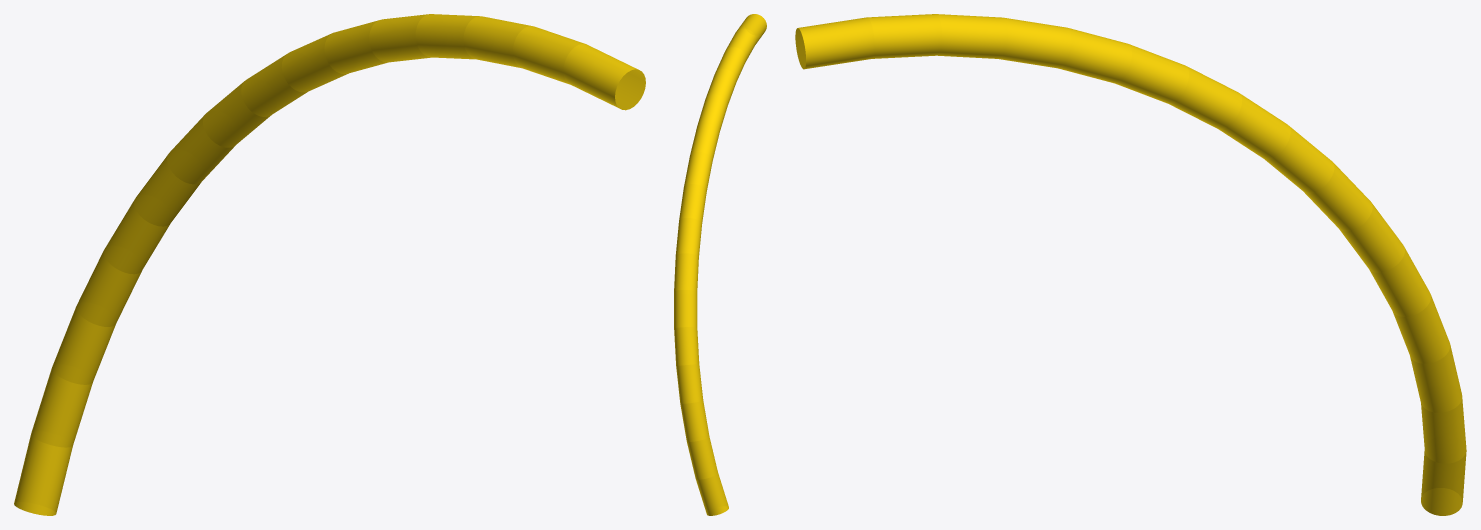
File: Event_421115418_track_152.fbx
3 renders of one model, left to right at view 1: azimuth 30°, elevation 25°; view 2: azimuth 150°, elevation 25°; view 3: azimuth 270°, elevation 25°, orthographic. The views are drawn at different scales.
Parts seen in each view (by area): view 1: Model; view 2: Model; view 3: Model.
Part boxes in pixels (<box>): Model: <box>14,14,645,515</box>; Model: <box>674,14,766,515</box>; Model: <box>795,14,1466,515</box>.
Bounding box in the file's own units: 0.3167 × 0.6357 × 0.6398.
